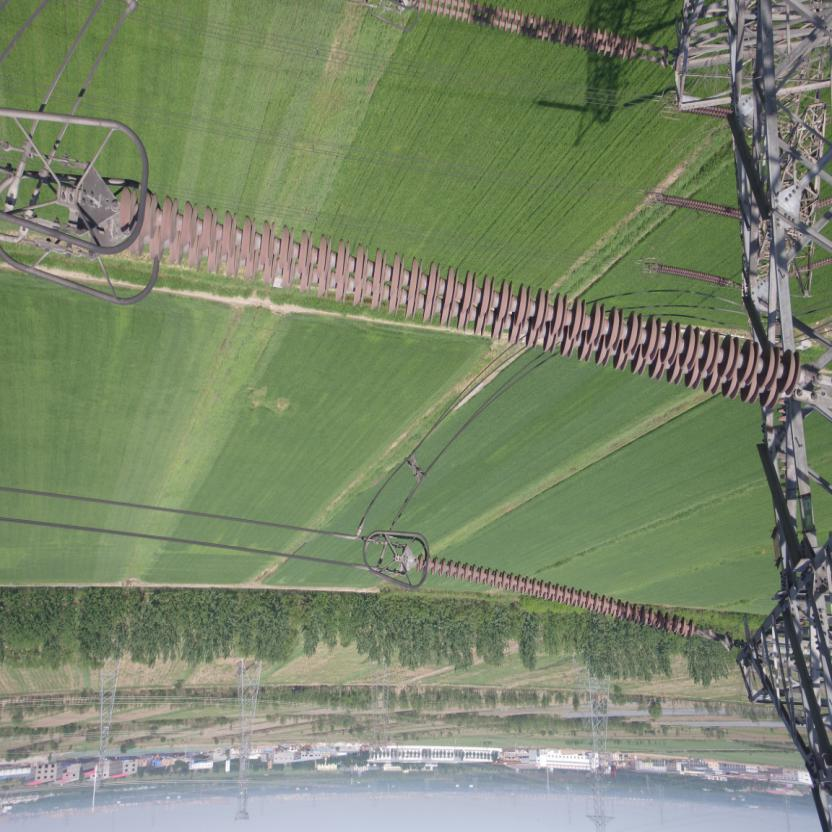insulator: (98, 181, 820, 417), (410, 551, 712, 645)
